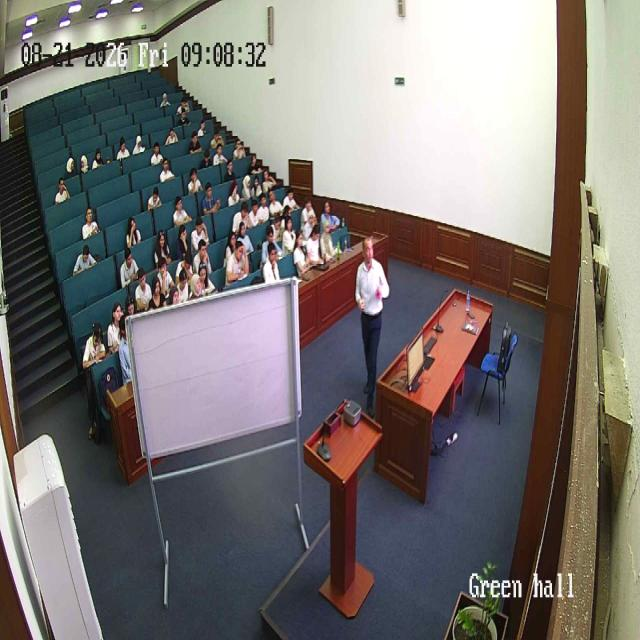person: (353, 236, 389, 408), (82, 323, 110, 437), (225, 238, 249, 286), (293, 228, 315, 278), (118, 316, 134, 382), (106, 301, 125, 354), (133, 266, 153, 312), (305, 222, 325, 267), (120, 246, 140, 290), (261, 239, 281, 283), (260, 222, 282, 262), (319, 220, 339, 262), (192, 238, 212, 278), (190, 215, 210, 255), (72, 243, 96, 276), (231, 200, 253, 236), (233, 220, 254, 257), (174, 224, 192, 267), (319, 197, 341, 232), (153, 228, 171, 270), (174, 262, 192, 303), (201, 181, 221, 216), (172, 195, 192, 228), (82, 205, 100, 241), (148, 276, 166, 310), (197, 262, 215, 296), (281, 215, 297, 253), (125, 216, 142, 251), (254, 193, 272, 226), (212, 139, 230, 169), (282, 184, 302, 210), (158, 156, 176, 184), (265, 185, 281, 216), (187, 165, 203, 195), (231, 137, 249, 163), (227, 178, 242, 208), (146, 184, 162, 212), (54, 177, 70, 204), (247, 149, 265, 172), (210, 126, 226, 150), (150, 140, 164, 167), (131, 132, 146, 156), (263, 166, 278, 190), (188, 130, 204, 152), (116, 136, 130, 161), (302, 193, 316, 218), (91, 146, 105, 170), (178, 105, 192, 129), (240, 174, 252, 200), (78, 152, 91, 175), (176, 93, 192, 110), (66, 155, 78, 177), (165, 128, 179, 146), (196, 122, 208, 143), (200, 151, 213, 168), (160, 90, 172, 108), (223, 158, 235, 176), (252, 172, 260, 193)
